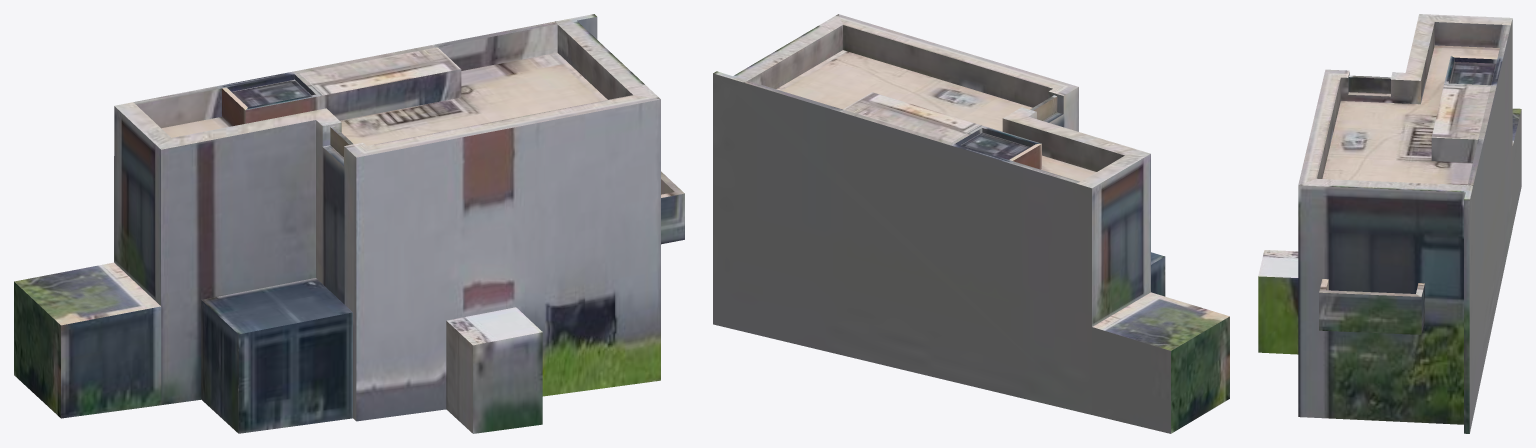
3 renders of one model, left to right at view 1: azimuth 30°, elevation 25°; view 2: azimuth 150°, elevation 25°; view 3: azimuth 270°, elevation 25°, orthographic. The views are drawn at different scales.
Visible parts, largest first — view 1: B286014032301062A0; view 2: B286014032301062A0; view 3: B286014032301062A0.
Boxes of the visible parts, x1,y1,x2,y2 form: B286014032301062A0: (14,14,684,433); B286014032301062A0: (713,14,1229,433); B286014032301062A0: (1258,14,1521,433).
Size of the model in its own units: 19.42 by 9.26 by 9.47.
1 material, 1 textured.
